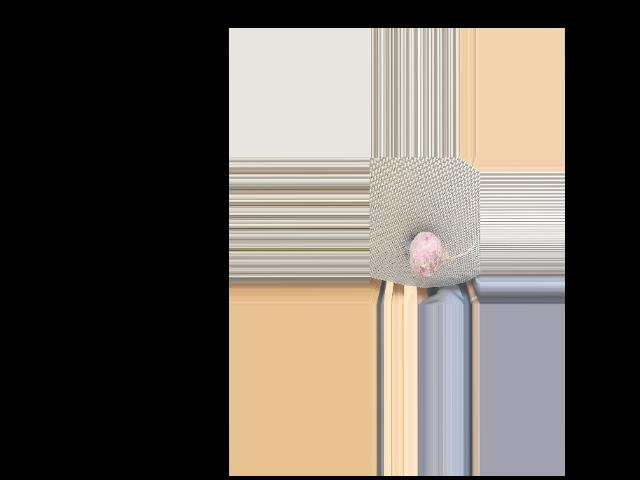beet: (403, 232, 474, 277)
